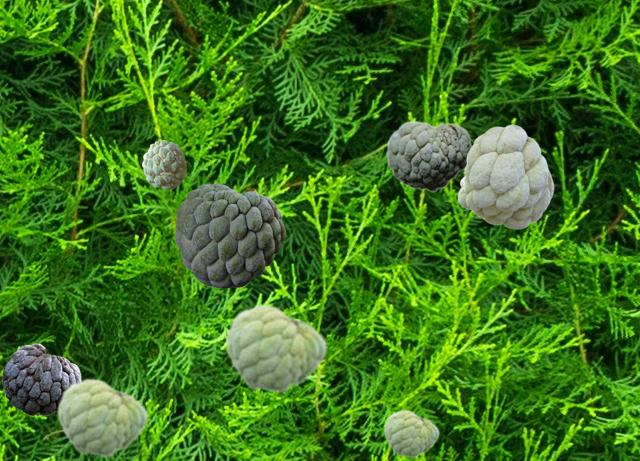atis: (175, 183, 284, 287), (457, 124, 553, 228), (224, 303, 326, 393), (56, 377, 147, 457), (386, 120, 471, 191), (2, 343, 80, 414), (383, 409, 438, 457), (142, 140, 185, 188)
